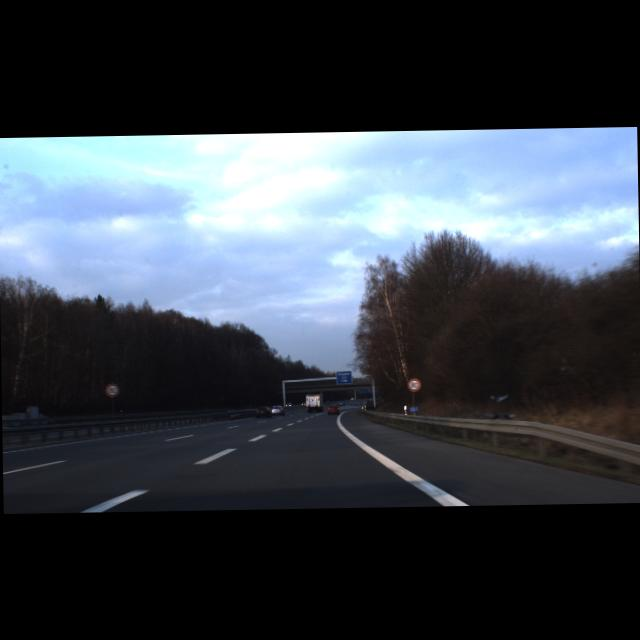prohibitory: (104, 382, 118, 397), (407, 378, 421, 392)
